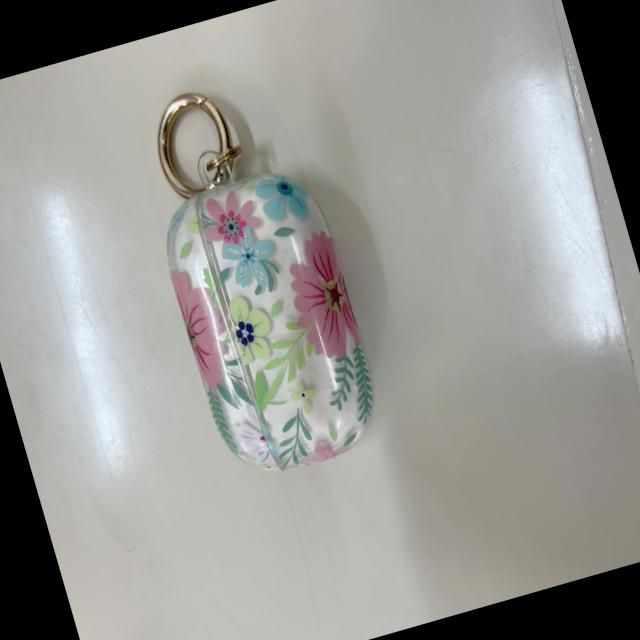inorganic: (118, 62, 392, 486)
